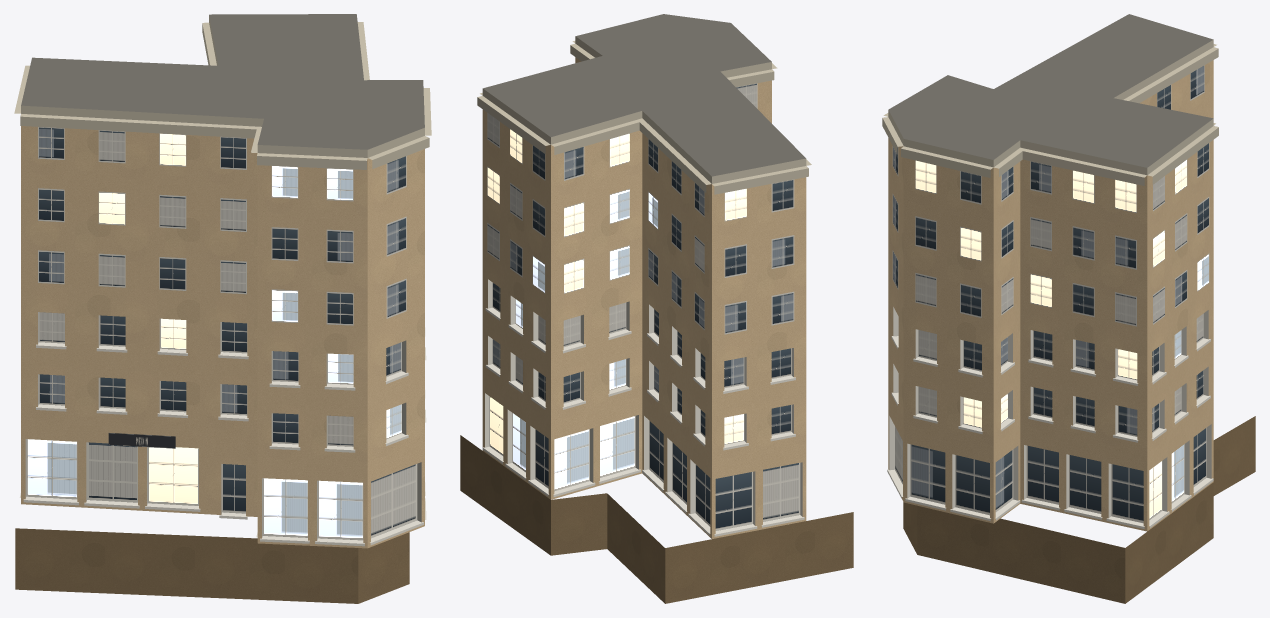
Rendered from langA_meixin.glb.
3 renders of one model, left to right at view 1: azimuth 30°, elevation 25°; view 2: azimuth 150°, elevation 25°; view 3: azimuth 270°, elevation 25°, orthographic. The views are drawn at different scales.
Visible parts, largest first — view 1: langA_meixin; view 2: langA_meixin; view 3: langA_meixin.
Boxes of the visible parts, x1,y1,x2,y2 form: langA_meixin: [14, 14, 431, 603]; langA_meixin: [460, 14, 853, 603]; langA_meixin: [882, 14, 1255, 603].
Size of the model in its own units: 21.05 by 22.48 by 18.12.
Materials: 3 (3 with a texture image).
